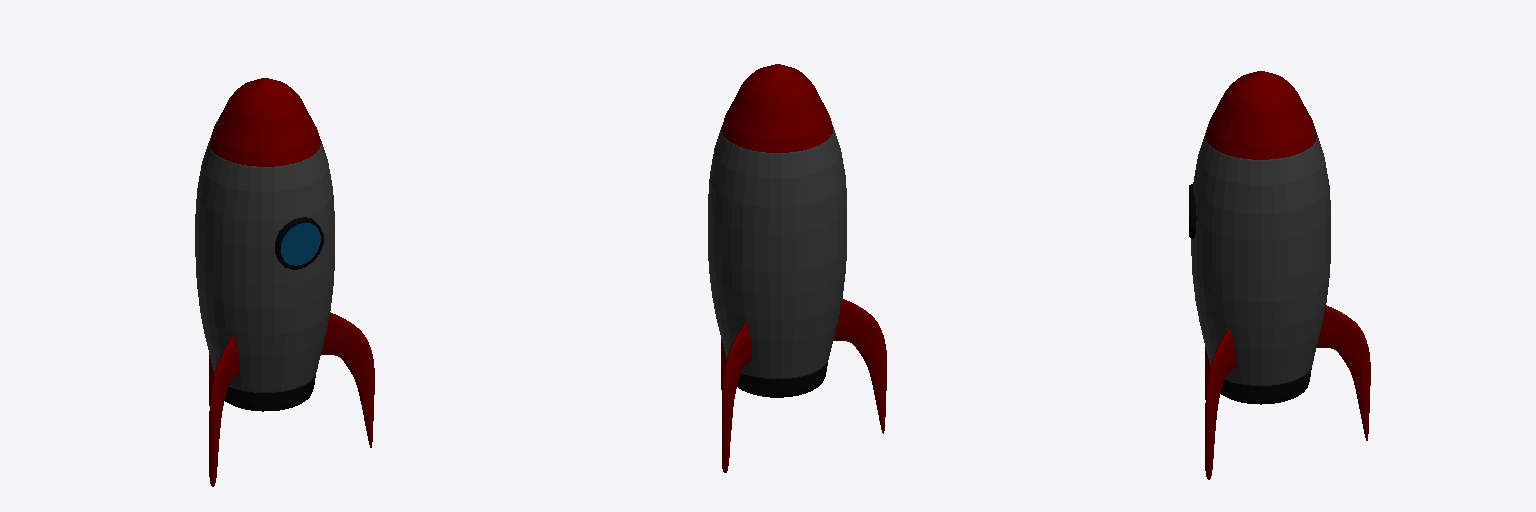
The model's file is CartoonRocket.obj.
3 renders of one model, left to right at view 1: azimuth 30°, elevation 25°; view 2: azimuth 150°, elevation 25°; view 3: azimuth 270°, elevation 25°, orthographic.
Parts seen in each view (by area): view 1: Cylinder; view 2: Cylinder; view 3: Cylinder.
Boxes of the visible parts, <box> form: Cylinder: <box>195,78,374,486</box>; Cylinder: <box>708,64,886,472</box>; Cylinder: <box>1189,71,1370,479</box>.
Bounding box in the file's own units: 4.48 × 9.62 × 4.27.